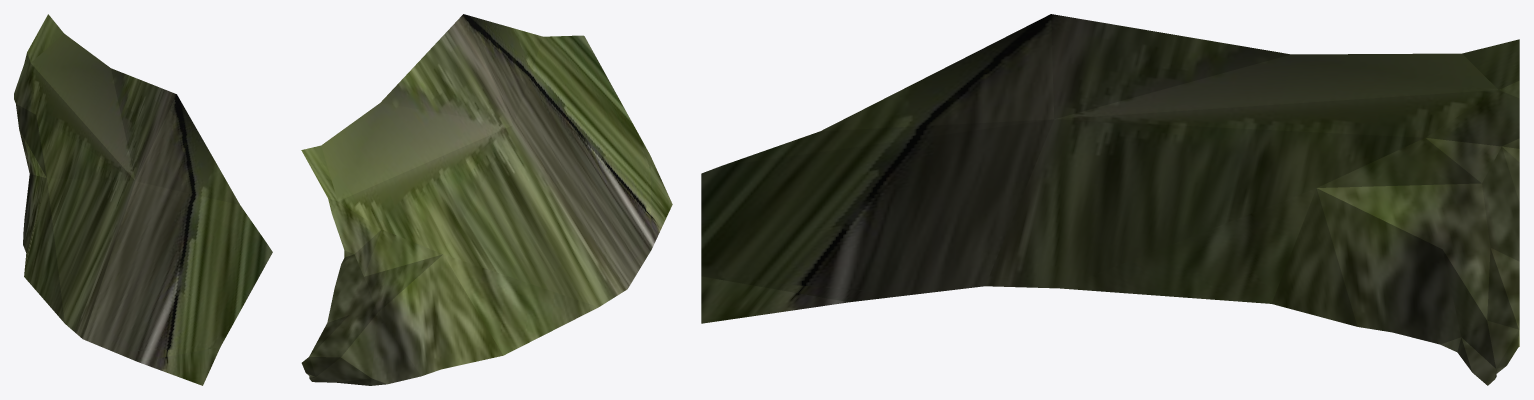
3 renders of one model, left to right at view 1: azimuth 30°, elevation 25°; view 2: azimuth 150°, elevation 25°; view 3: azimuth 270°, elevation 25°, orthographic. The views are drawn at different scales.
Bounding box in the file's own units: 0.8507 × 1.48 × 2.95.
2 materials, 2 textured.
